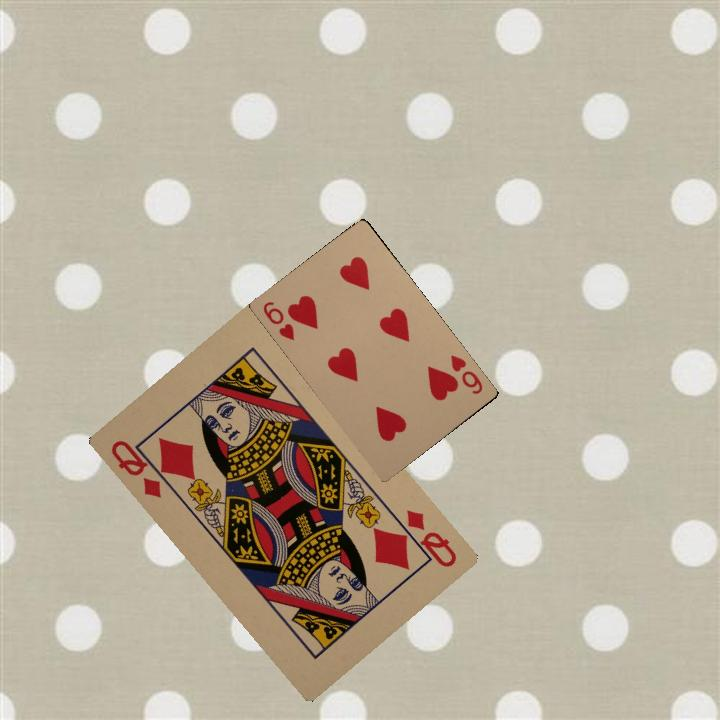6h: (259, 297, 297, 343), (447, 352, 485, 397)
Qd: (389, 505, 460, 570), (106, 435, 174, 500)
